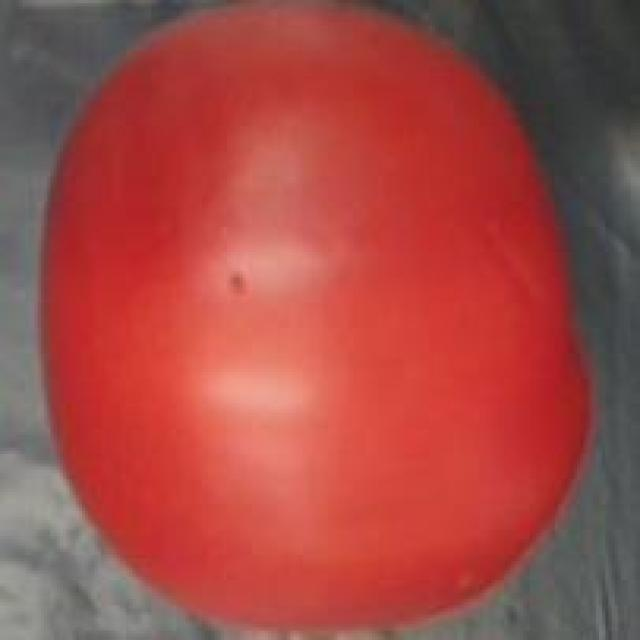ripe tomato: (35, 0, 599, 640)
